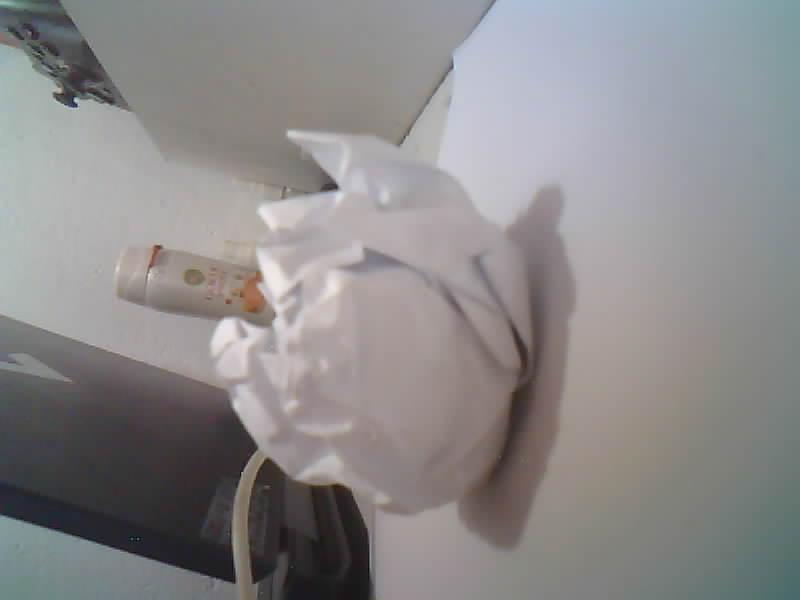biodegradable: (210, 131, 533, 513)
